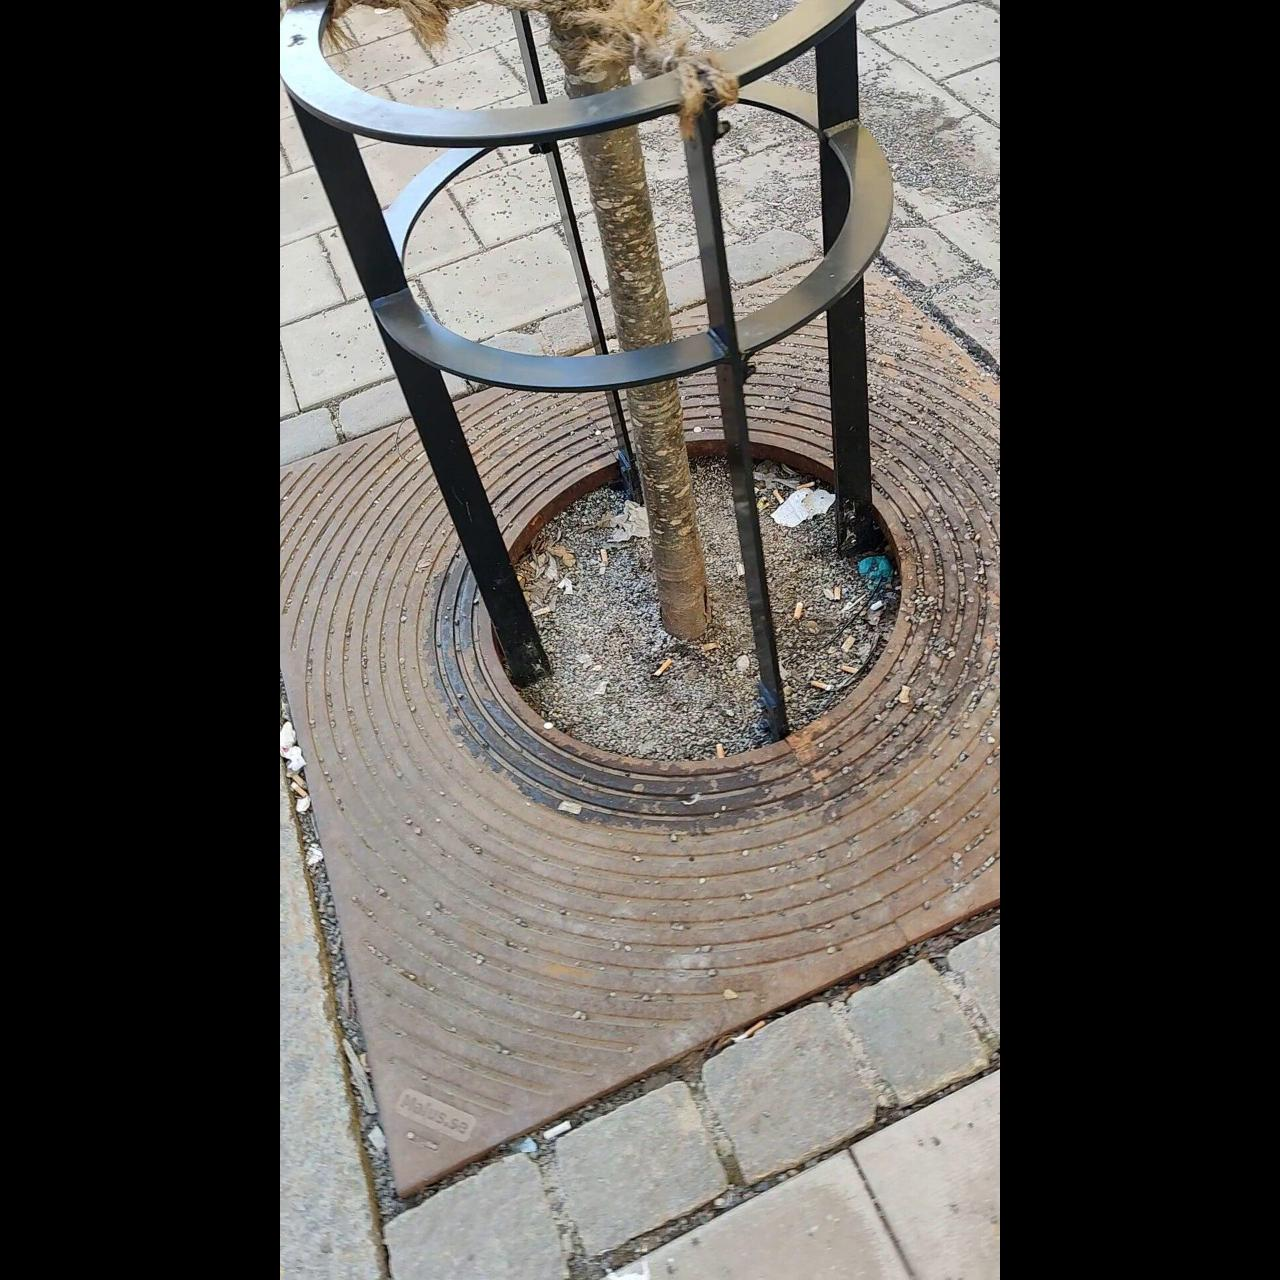cigarettes_butts: (733, 1020, 763, 1046), (806, 680, 832, 694), (653, 661, 669, 681), (291, 782, 307, 799), (837, 663, 862, 674), (794, 481, 815, 491), (792, 601, 804, 620), (715, 742, 727, 760), (772, 488, 785, 503), (600, 547, 610, 565), (294, 772, 306, 785), (845, 636, 853, 653), (835, 585, 840, 602)
others: (544, 1119, 572, 1141), (559, 799, 583, 817), (898, 683, 910, 707), (532, 606, 552, 618), (706, 642, 721, 654)
